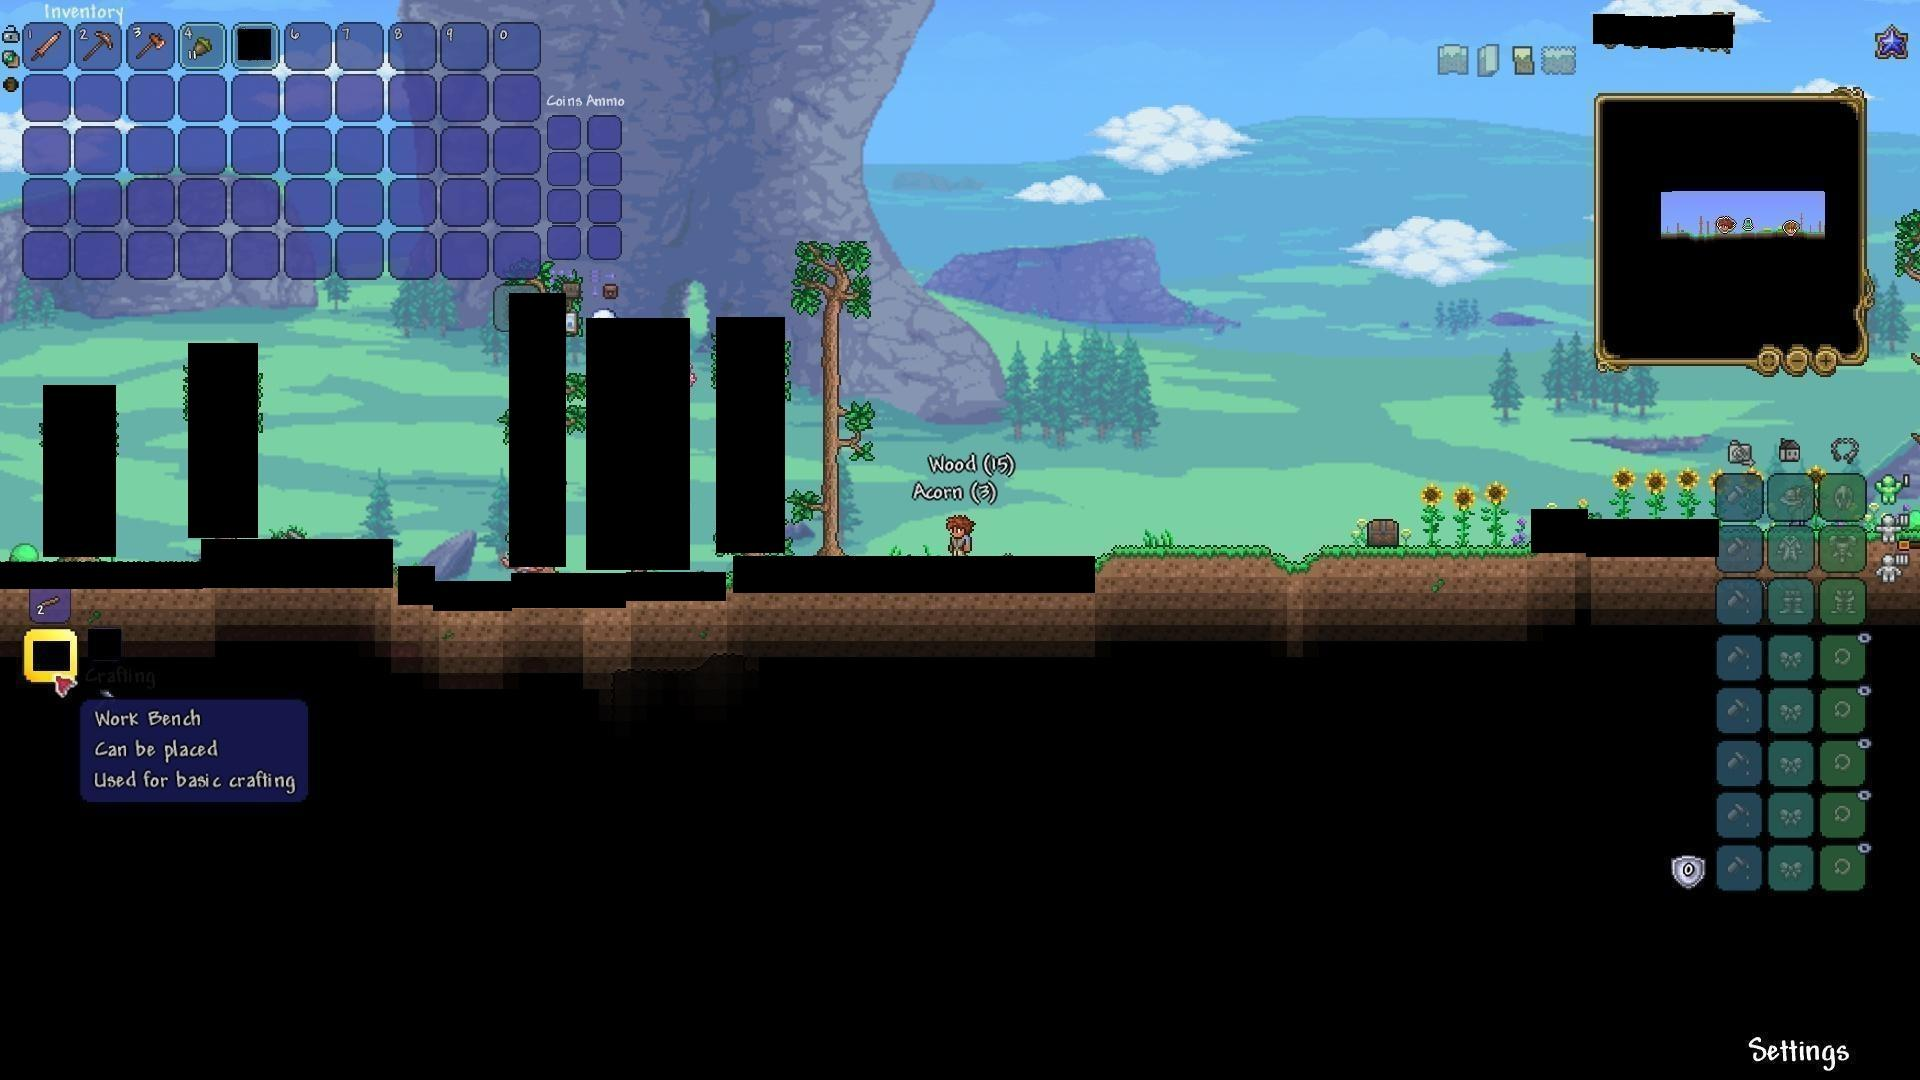dirt: (1096, 541, 1526, 578)
slime: (11, 541, 40, 564), (1898, 506, 1920, 535)
tree: (796, 232, 869, 554)
